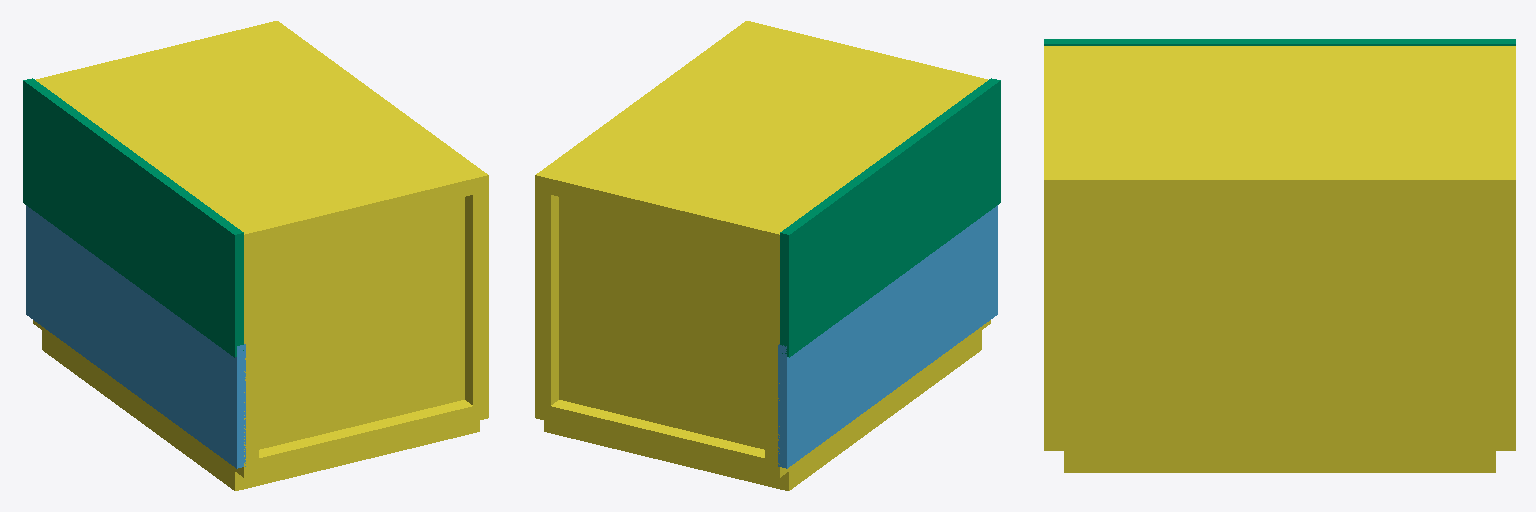
The robot description file, URDF, robot "partnet_4f0fd96b50c261ed48fda83c10428379":
<?xml version="1.0" ?>
<robot name="partnet_4f0fd96b50c261ed48fda83c10428379">
	<link name="base"/>
	<link name="link_0">
		<visual name="drawer_back-50">
			<origin xyz="0 0 0"/>
			<geometry>
				<mesh filename="textured_objs/original-29.obj"/>
			</geometry>
		</visual>
		<visual name="drawer_bottom-51">
			<origin xyz="0 0 0"/>
			<geometry>
				<mesh filename="textured_objs/original-25.obj"/>
			</geometry>
		</visual>
		<visual name="drawer_front-55">
			<origin xyz="0 0 0"/>
			<geometry>
				<mesh filename="textured_objs/original-28.obj"/>
			</geometry>
		</visual>
		<visual name="drawer_front-56">
			<origin xyz="0 0 0"/>
			<geometry>
				<mesh filename="textured_objs/original-24.obj"/>
			</geometry>
		</visual>
		<visual name="drawer_side-57">
			<origin xyz="0 0 0"/>
			<geometry>
				<mesh filename="textured_objs/new-7.obj"/>
			</geometry>
		</visual>
		<visual name="drawer_side-58">
			<origin xyz="0 0 0"/>
			<geometry>
				<mesh filename="textured_objs/new-5.obj"/>
			</geometry>
		</visual>
		<collision>
			<origin xyz="0 0 0"/>
			<geometry>
				<mesh filename="textured_objs/original-29.obj"/>
			</geometry>
		</collision>
		<collision>
			<origin xyz="0 0 0"/>
			<geometry>
				<mesh filename="textured_objs/original-25.obj"/>
			</geometry>
		</collision>
		<collision>
			<origin xyz="0 0 0"/>
			<geometry>
				<mesh filename="textured_objs/original-28.obj"/>
			</geometry>
		</collision>
		<collision>
			<origin xyz="0 0 0"/>
			<geometry>
				<mesh filename="textured_objs/original-24.obj"/>
			</geometry>
		</collision>
		<collision>
			<origin xyz="0 0 0"/>
			<geometry>
				<mesh filename="textured_objs/new-7.obj"/>
			</geometry>
		</collision>
		<collision>
			<origin xyz="0 0 0"/>
			<geometry>
				<mesh filename="textured_objs/new-5.obj"/>
			</geometry>
		</collision>
	</link>
	<joint name="joint_0" type="fixed">
		<origin xyz="0 0 -0.3879999999999999"/>
		<axis xyz="0 0 1"/>
		<child link="link_0"/>
		<parent link="link_2"/>
		<limit lower="-0.3879999999999999" upper="0.3959999999999999"/>
	</joint>
	<link name="link_1">
		<visual name="drawer_front-66">
			<origin xyz="0 0 0"/>
			<geometry>
				<mesh filename="textured_objs/original-22.obj"/>
			</geometry>
		</visual>
		<visual name="drawer_front-67">
			<origin xyz="0 0 0"/>
			<geometry>
				<mesh filename="textured_objs/original-18.obj"/>
			</geometry>
		</visual>
		<visual name="drawer_side-68">
			<origin xyz="0 0 0"/>
			<geometry>
				<mesh filename="textured_objs/original-20.obj"/>
			</geometry>
		</visual>
		<visual name="drawer_side-69">
			<origin xyz="0 0 0"/>
			<geometry>
				<mesh filename="textured_objs/original-21.obj"/>
			</geometry>
		</visual>
		<visual name="drawer_back-70">
			<origin xyz="0 0 0"/>
			<geometry>
				<mesh filename="textured_objs/original-23.obj"/>
			</geometry>
		</visual>
		<visual name="drawer_bottom-71">
			<origin xyz="0 0 0"/>
			<geometry>
				<mesh filename="textured_objs/original-19.obj"/>
			</geometry>
		</visual>
		<collision>
			<origin xyz="0 0 0"/>
			<geometry>
				<mesh filename="textured_objs/original-22.obj"/>
			</geometry>
		</collision>
		<collision>
			<origin xyz="0 0 0"/>
			<geometry>
				<mesh filename="textured_objs/original-18.obj"/>
			</geometry>
		</collision>
		<collision>
			<origin xyz="0 0 0"/>
			<geometry>
				<mesh filename="textured_objs/original-20.obj"/>
			</geometry>
		</collision>
		<collision>
			<origin xyz="0 0 0"/>
			<geometry>
				<mesh filename="textured_objs/original-21.obj"/>
			</geometry>
		</collision>
		<collision>
			<origin xyz="0 0 0"/>
			<geometry>
				<mesh filename="textured_objs/original-23.obj"/>
			</geometry>
		</collision>
		<collision>
			<origin xyz="0 0 0"/>
			<geometry>
				<mesh filename="textured_objs/original-19.obj"/>
			</geometry>
		</collision>
	</link>
	<joint name="joint_1" type="prismatic">
		<origin xyz="0 0 0"/>
		<axis xyz="0 0 1"/>
		<child link="link_1"/>
		<parent link="link_2"/>
		<limit lower="0" upper="0.7959999999999998"/>
	</joint>
	<link name="link_2">
		<visual name="board-60">
			<origin xyz="0 0 0"/>
			<geometry>
				<mesh filename="textured_objs/original-6.obj"/>
			</geometry>
		</visual>
		<visual name="back_panel-10">
			<origin xyz="0 0 0"/>
			<geometry>
				<mesh filename="textured_objs/original-2.obj"/>
			</geometry>
		</visual>
		<visual name="vertical_side_panel-11">
			<origin xyz="0 0 0"/>
			<geometry>
				<mesh filename="textured_objs/original-11.obj"/>
			</geometry>
		</visual>
		<visual name="vertical_side_panel-12">
			<origin xyz="0 0 0"/>
			<geometry>
				<mesh filename="textured_objs/original-10.obj"/>
			</geometry>
		</visual>
		<visual name="base_side_panel-13">
			<origin xyz="0 0 0"/>
			<geometry>
				<mesh filename="textured_objs/original-12.obj"/>
			</geometry>
		</visual>
		<visual name="base_side_panel-14">
			<origin xyz="0 0 0"/>
			<geometry>
				<mesh filename="textured_objs/original-7.obj"/>
			</geometry>
		</visual>
		<visual name="base_side_panel-15">
			<origin xyz="0 0 0"/>
			<geometry>
				<mesh filename="textured_objs/original-5.obj"/>
			</geometry>
		</visual>
		<visual name="base_side_panel-16">
			<origin xyz="0 0 0"/>
			<geometry>
				<mesh filename="textured_objs/original-1.obj"/>
			</geometry>
		</visual>
		<visual name="bottom_panel-17">
			<origin xyz="0 0 0"/>
			<geometry>
				<mesh filename="textured_objs/original-9.obj"/>
			</geometry>
		</visual>
		<visual name="other_leaf-22">
			<origin xyz="0 0 0"/>
			<geometry>
				<mesh filename="textured_objs/original-4.obj"/>
			</geometry>
		</visual>
		<visual name="other_leaf-23">
			<origin xyz="0 0 0"/>
			<geometry>
				<mesh filename="textured_objs/original-8.obj"/>
			</geometry>
		</visual>
		<visual name="other_leaf-24">
			<origin xyz="0 0 0"/>
			<geometry>
				<mesh filename="textured_objs/original-17.obj"/>
			</geometry>
		</visual>
		<visual name="other_leaf-25">
			<origin xyz="0 0 0"/>
			<geometry>
				<mesh filename="textured_objs/original-16.obj"/>
			</geometry>
		</visual>
		<!-- <visual name="drawer_rails-40">
			<origin xyz="0 0 0"/>
			<geometry>
				<mesh filename="textured_objs/new-6.obj"/>
			</geometry>
		</visual>
		<visual name="drawer_rails-41">
			<origin xyz="0 0 0"/>
			<geometry>
				<mesh filename="textured_objs/new-4.obj"/>
			</geometry>
		</visual> -->
		<visual name="drawer_slider-42">
			<origin xyz="0 0 0"/>
			<geometry>
				<mesh filename="textured_objs/new-0.obj"/>
			</geometry>
		</visual>
		<visual name="drawer_slider-43">
			<origin xyz="0 0 0"/>
			<geometry>
				<mesh filename="textured_objs/new-2.obj"/>
			</geometry>
		</visual>
		<visual name="drawer_slider-62">
			<origin xyz="0 0 0"/>
			<geometry>
				<mesh filename="textured_objs/new-10.obj"/>
			</geometry>
		</visual>
		<visual name="drawer_slider-72">
			<origin xyz="0 0 0"/>
			<geometry>
				<mesh filename="textured_objs/new-8.obj"/>
			</geometry>
		</visual>
		<visual name="other_leaf-45">
			<origin xyz="0 0 0"/>
			<geometry>
				<mesh filename="textured_objs/new-3.obj"/>
			</geometry>
		</visual>
		<visual name="other_leaf-46">
			<origin xyz="0 0 0"/>
			<geometry>
				<mesh filename="textured_objs/new-1.obj"/>
			</geometry>
		</visual>
		<visual name="other_leaf-64">
			<origin xyz="0 0 0"/>
			<geometry>
				<mesh filename="textured_objs/new-11.obj"/>
			</geometry>
		</visual>
		<visual name="other_leaf-65">
			<origin xyz="0 0 0"/>
			<geometry>
				<mesh filename="textured_objs/new-9.obj"/>
			</geometry>
		</visual>
		<collision>
			<origin xyz="0 0 0"/>
			<geometry>
				<mesh filename="textured_objs/original-6.obj"/>
			</geometry>
		</collision>
		<collision>
			<origin xyz="0 0 0"/>
			<geometry>
				<mesh filename="textured_objs/original-2.obj"/>
			</geometry>
		</collision>
		<collision>
			<origin xyz="0 0 0"/>
			<geometry>
				<mesh filename="textured_objs/original-11.obj"/>
			</geometry>
		</collision>
		<collision>
			<origin xyz="0 0 0"/>
			<geometry>
				<mesh filename="textured_objs/original-10.obj"/>
			</geometry>
		</collision>
		<collision>
			<origin xyz="0 0 0"/>
			<geometry>
				<mesh filename="textured_objs/original-12.obj"/>
			</geometry>
		</collision>
		<collision>
			<origin xyz="0 0 0"/>
			<geometry>
				<mesh filename="textured_objs/original-7.obj"/>
			</geometry>
		</collision>
		<collision>
			<origin xyz="0 0 0"/>
			<geometry>
				<mesh filename="textured_objs/original-5.obj"/>
			</geometry>
		</collision>
		<collision>
			<origin xyz="0 0 0"/>
			<geometry>
				<mesh filename="textured_objs/original-1.obj"/>
			</geometry>
		</collision>
		<collision>
			<origin xyz="0 0 0"/>
			<geometry>
				<mesh filename="textured_objs/original-9.obj"/>
			</geometry>
		</collision>
		<collision>
			<origin xyz="0 0 0"/>
			<geometry>
				<mesh filename="textured_objs/original-4.obj"/>
			</geometry>
		</collision>
		<collision>
			<origin xyz="0 0 0"/>
			<geometry>
				<mesh filename="textured_objs/original-8.obj"/>
			</geometry>
		</collision>
		<collision>
			<origin xyz="0 0 0"/>
			<geometry>
				<mesh filename="textured_objs/original-17.obj"/>
			</geometry>
		</collision>
		<collision>
			<origin xyz="0 0 0"/>
			<geometry>
				<mesh filename="textured_objs/original-16.obj"/>
			</geometry>
		</collision>
		<!-- <collision>
			<origin xyz="0 0 0"/>
			<geometry>
				<mesh filename="textured_objs/new-6.obj"/>
			</geometry>
		</collision>
		<collision>
			<origin xyz="0 0 0"/>
			<geometry>
				<mesh filename="textured_objs/new-4.obj"/>
			</geometry>
		</collision> -->
		<collision>
			<origin xyz="0 0 0"/>
			<geometry>
				<mesh filename="textured_objs/new-0.obj"/>
			</geometry>
		</collision>
		<collision>
			<origin xyz="0 0 0"/>
			<geometry>
				<mesh filename="textured_objs/new-2.obj"/>
			</geometry>
		</collision>
		<collision>
			<origin xyz="0 0 0"/>
			<geometry>
				<mesh filename="textured_objs/new-10.obj"/>
			</geometry>
		</collision>
		<collision>
			<origin xyz="0 0 0"/>
			<geometry>
				<mesh filename="textured_objs/new-8.obj"/>
			</geometry>
		</collision>
		<collision>
			<origin xyz="0 0 0"/>
			<geometry>
				<mesh filename="textured_objs/new-3.obj"/>
			</geometry>
		</collision>
		<collision>
			<origin xyz="0 0 0"/>
			<geometry>
				<mesh filename="textured_objs/new-1.obj"/>
			</geometry>
		</collision>
		<collision>
			<origin xyz="0 0 0"/>
			<geometry>
				<mesh filename="textured_objs/new-11.obj"/>
			</geometry>
		</collision>
		<collision>
			<origin xyz="0 0 0"/>
			<geometry>
				<mesh filename="textured_objs/new-9.obj"/>
			</geometry>
		</collision>
	</link>
	<joint name="joint_2" type="fixed">
		<origin rpy="1.570796326794897 0 -1.570796326794897" xyz="0 0 0"/>
		<child link="link_2"/>
		<parent link="base"/>
	</joint>
</robot>

--- What the picture shows (computed from the rendered views, not written in the file) ---
3 views of the same robot in one strip: view 1: azimuth 30°, elevation 25°; view 2: azimuth 150°, elevation 25°; view 3: azimuth 270°, elevation 25° (orthographic).
Model partnet_4f0fd96b50c261ed48fda83c10428379 with 4 links and 3 joints (1 prismatic, 2 fixed), rooted at base, posed all joints at 0.
Links seen in each view (by area): view 1: link_2, link_1, link_0; view 2: link_2, link_1, link_0; view 3: link_2, link_1.
Boxes of the visible links, x1=… form: link_2: x1=33, y1=21, x2=488, y2=490; link_1: x1=23, y1=78, x2=243, y2=357; link_0: x1=26, y1=205, x2=245, y2=468; link_2: x1=535, y1=21, x2=990, y2=490; link_1: x1=780, y1=78, x2=1000, y2=357; link_0: x1=778, y1=205, x2=997, y2=468; link_2: x1=1044, y1=46, x2=1515, y2=472; link_1: x1=1044, y1=39, x2=1515, y2=45.
Size in the robot's own frame: 0.9134 by 1.31 by 0.9107 metres.
Meshes: 33 distinct files referenced, 33 mesh visuals loaded (33 OBJ).
